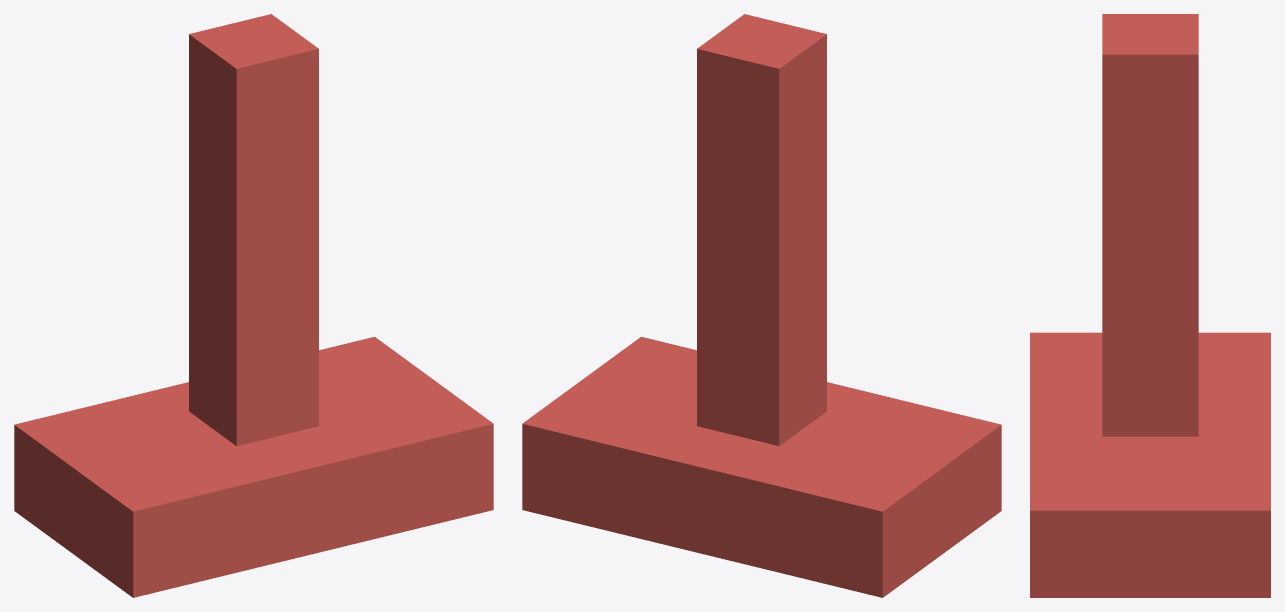
The model's file is 04_jack.glb.
The picture shows the model from 3 angles, left to right: view 1: azimuth 30°, elevation 25°; view 2: azimuth 150°, elevation 25°; view 3: azimuth 270°, elevation 25°; orthographic projection.
Parts seen in each view (by area): view 1: auto_04_jack; view 2: auto_04_jack; view 3: auto_04_jack.
Boxes of the visible parts, x1,y1,x2,y2 form: auto_04_jack: [14, 14, 493, 597]; auto_04_jack: [522, 14, 1001, 597]; auto_04_jack: [1030, 14, 1270, 597].
Bounding box in the file's own units: 0.35 × 0.435 × 0.2.
